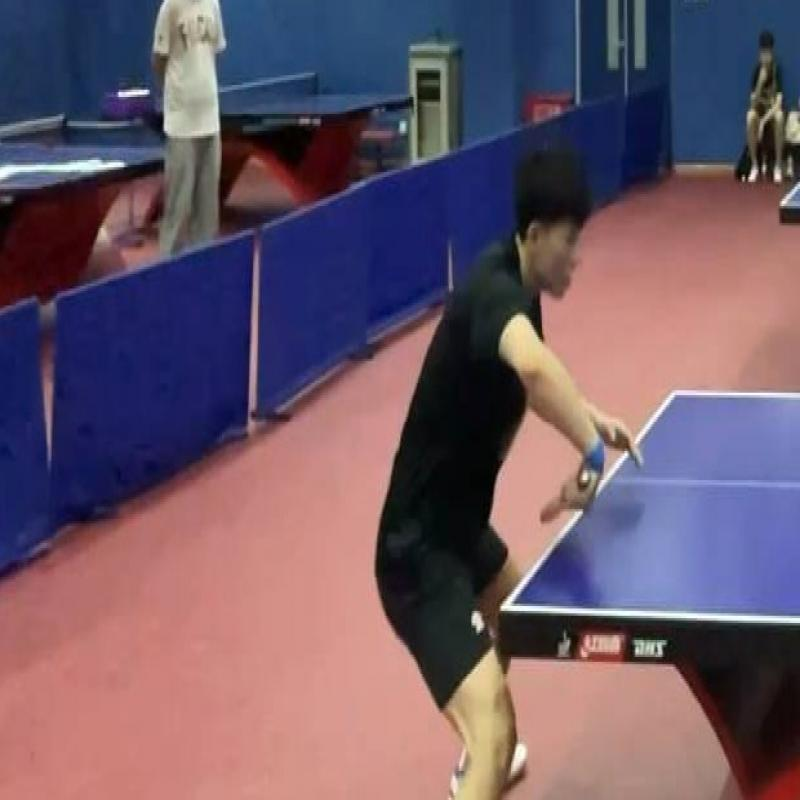bats: (526, 449, 602, 538)
